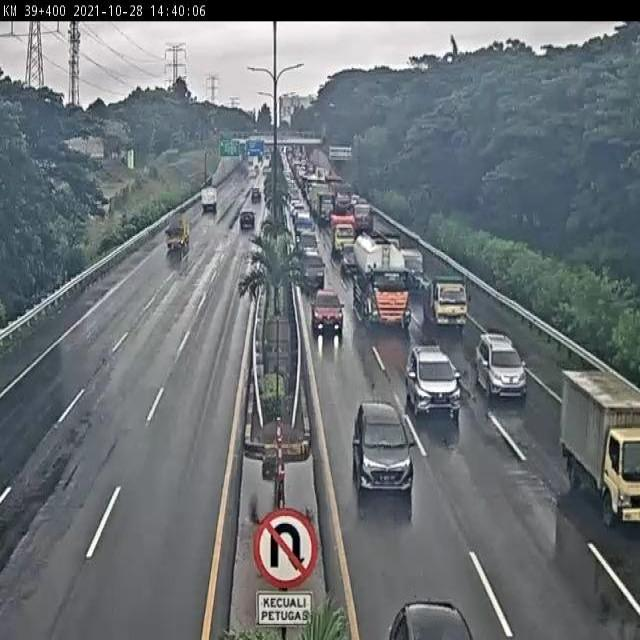car: (353, 400, 414, 493), (406, 347, 461, 412), (476, 335, 526, 397), (310, 287, 345, 329), (301, 249, 326, 288), (297, 228, 318, 255), (237, 211, 255, 233), (340, 246, 356, 270)
small truck: (164, 214, 193, 254)
truck-m-: (423, 271, 471, 325), (329, 211, 355, 252)
truck-s-: (561, 372, 640, 524), (397, 245, 425, 288)
truck-xl-: (355, 234, 410, 322)
